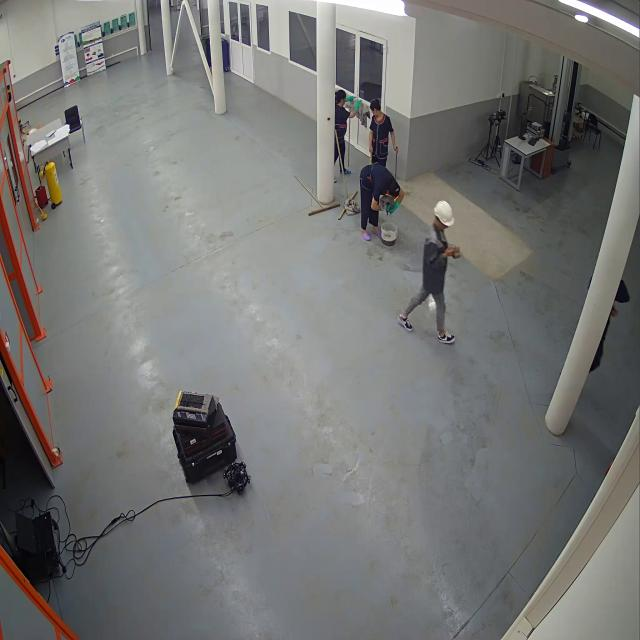Hardhat: (436, 199, 454, 228)
NO-Hardhat: (336, 89, 348, 104), (389, 182, 400, 197), (370, 98, 381, 106)
Person: (398, 201, 461, 349), (584, 248, 631, 373), (356, 160, 407, 247), (336, 87, 362, 180), (368, 97, 402, 163)
